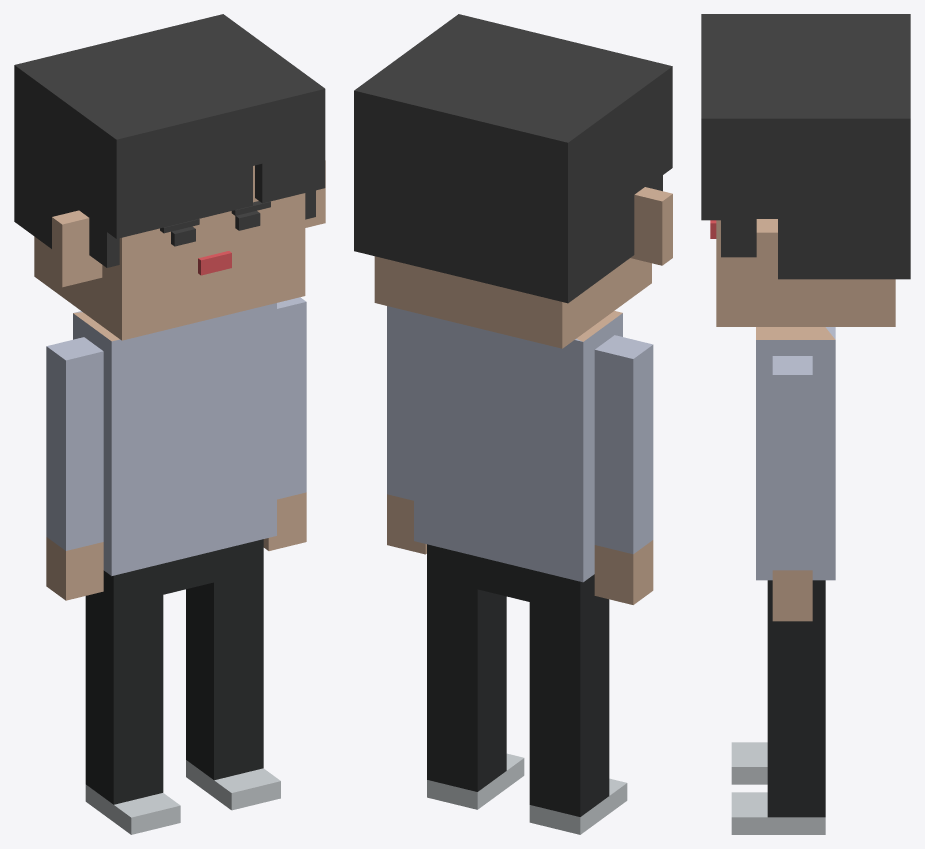
The model's file is customer3.fbx.
The picture shows the model from 3 angles, left to right: view 1: azimuth 30°, elevation 25°; view 2: azimuth 150°, elevation 25°; view 3: azimuth 270°, elevation 25°; orthographic projection. The views are drawn at different scales.
Visible parts, largest first — view 1: customer; view 2: customer; view 3: customer.
Part boxes in pixels (bbox=[...]): customer: bbox=[14, 14, 325, 834]; customer: bbox=[354, 14, 672, 834]; customer: bbox=[701, 14, 910, 834].
Bounding box in the file's own units: 6.87 × 17.77 × 4.61.
